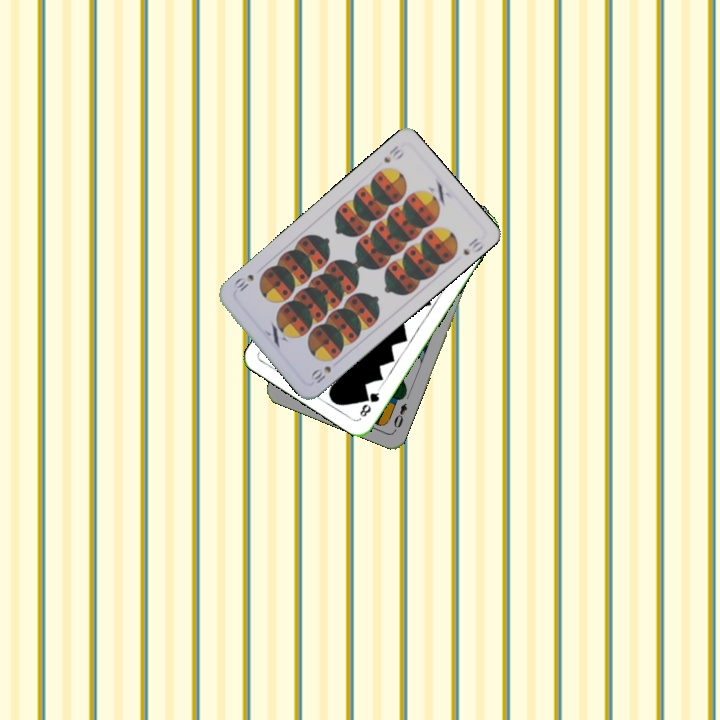EO: (390, 399, 410, 434)
G8: (355, 385, 382, 420)
S10: (380, 141, 407, 166), (306, 362, 334, 386)
